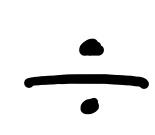div: (22, 37, 150, 115)
